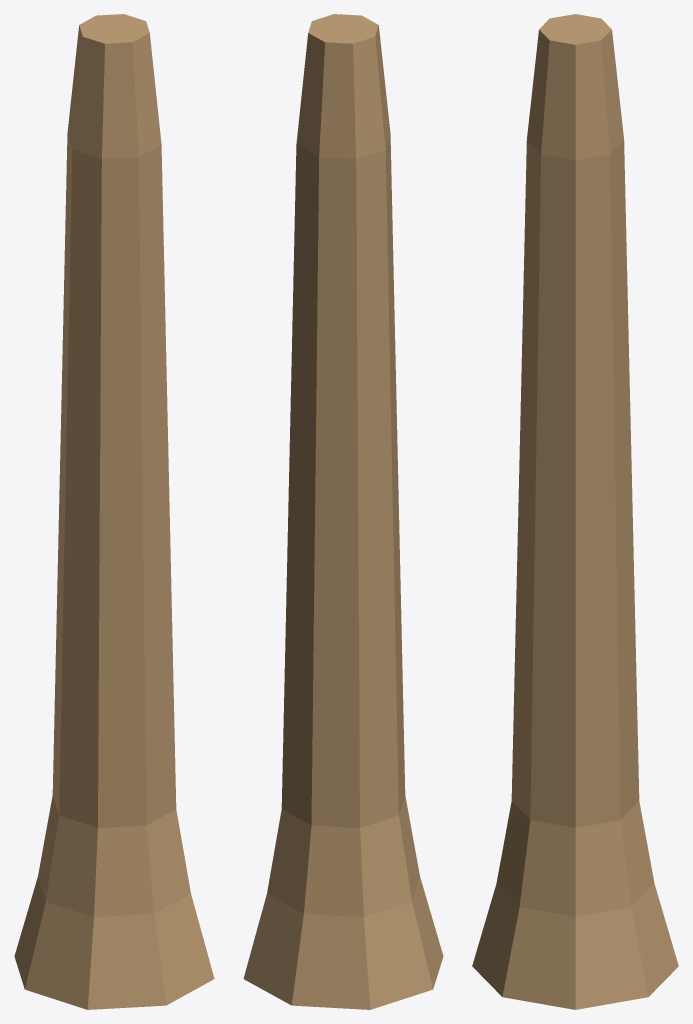
File: prop-chanter-blank.fbx
The picture shows the model from 3 angles, left to right: view 1: azimuth 30°, elevation 25°; view 2: azimuth 150°, elevation 25°; view 3: azimuth 270°, elevation 25°; orthographic projection.
Parts seen in each view (by area): view 1: prop-chanter-blank; view 2: prop-chanter-blank; view 3: prop-chanter-blank.
Part boxes in pixels (x1,y1,x2,y2): prop-chanter-blank: (14, 14, 214, 1009); prop-chanter-blank: (243, 14, 443, 1009); prop-chanter-blank: (472, 14, 678, 1009).
Bounding box in the file's own units: 6.8 × 34 × 6.8.
